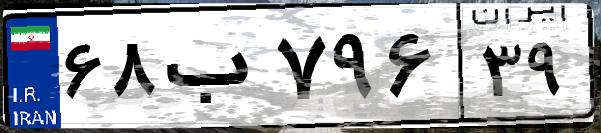3: (475, 38, 525, 113)
6: (385, 28, 445, 110), (57, 26, 110, 100)
7: (270, 28, 330, 110)
8: (110, 28, 158, 98)
9: (330, 28, 385, 110), (525, 38, 570, 115)
ب: (158, 20, 270, 120)
